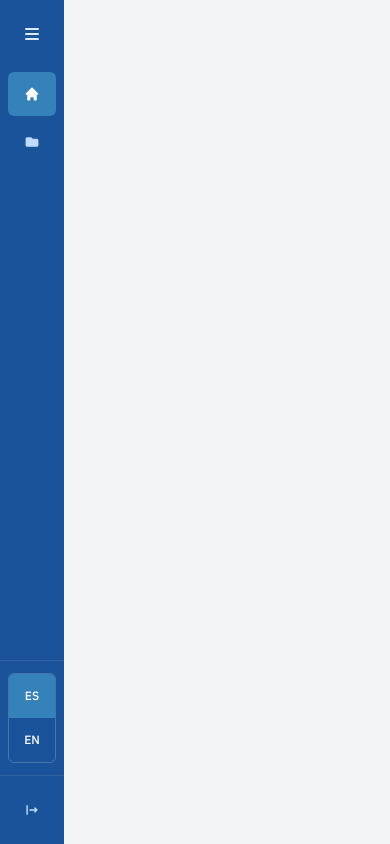
Test case: Sidebar en tablet (franja de íconos) › el botón abre el menú con los nombres a la vista y Escape lo cierra
Click the button named "Abrir el menú" at (32, 34), box 8,12 -> 56,56
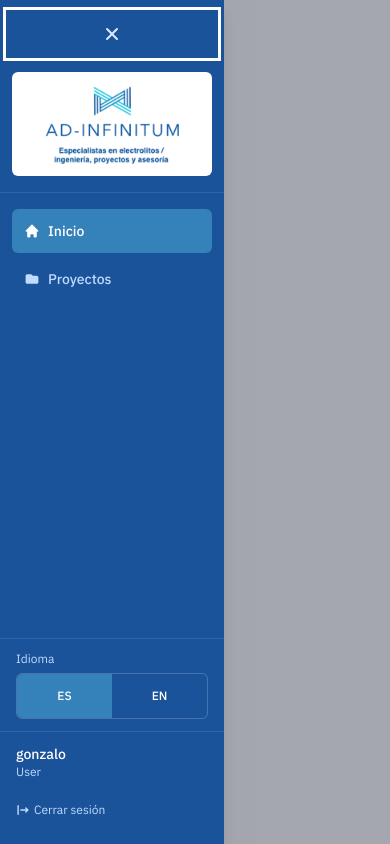
expect the button named "Cerrar el menú" is expanded: met, box 8,12 -> 216,56
Press Escape
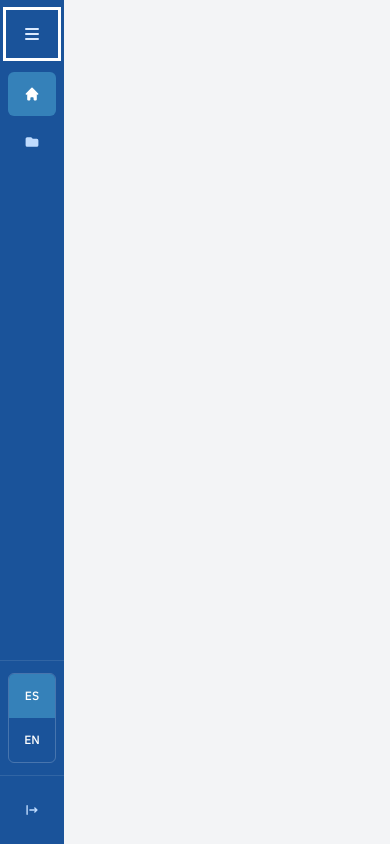
expect the button named "Abrir el menú" is collapsed: met, box 8,12 -> 56,56
